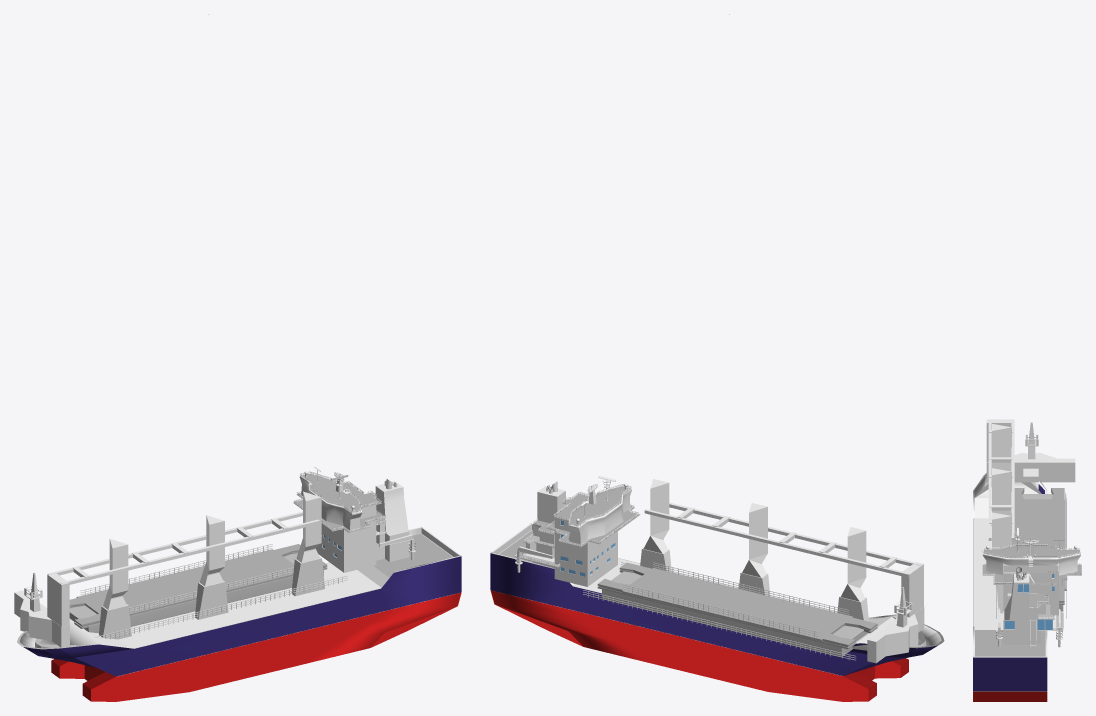
File: gshc.FBX
3 views of the same model, side by side, from view 1: azimuth 30°, elevation 25°; view 2: azimuth 150°, elevation 25°; view 3: azimuth 270°, elevation 25° (orthographic). The views are drawn at different scales.
Parts seen in each view (by area): view 1: chuandi_pCylinder97_chuandi_polySurface362, chuanlou_pCylinder361, chuandi_pCylinder97_chuandi_polySurface178, chuandi_pCylinder97_chuandi_polySurface87, chuandi_pCylinder97_polySurface87, chuandi_pCylinder97_polySurface88, chuandi_pCylinder97_chuandi_polySurface310, chuandi_pCylinder97_chuandi_polySurface432, chuandi_pCylinder97_chuandi_polySurface400; view 2: chuandi_pCylinder97_chuandi_polySurface362, chuanlou_pCylinder361, chuandi_pCylinder97_chuandi_polySurface178, chuandi_pCylinder97_chuandi_polySurface310, chuandi_pCylinder97_chuandi_polySurface87, chuandi_pCylinder97_polySurface88, chuandi_pCylinder97_polySurface87, chuandi_pCylinder97_chuandi_polySurface432, chuandi_pCylinder97_chuandi_polySurface400; view 3: chuandi_pCylinder97_chuandi_polySurface362, chuanlou_pCylinder361, chuandi_pCylinder97_chuandi_polySurface178, chuandi_pCylinder97_chuandi_polySurface432, chuandi_pCylinder97_chuandi_polySurface87, chuandi_pCylinder97_polySurface88, chuandi_pCylinder97_polySurface87, chuandi_pCylinder97_chuandi_polySurface400, chuandi_pCube20, chuandi_pCylinder97_chuandi_polySurface310, chuandi_pCylinder97_chuandi_polySurface86.
Boxes of the visible parts, x1,y1,x2,y2 form: chuandi_pCylinder97_chuandi_polySurface362: [17, 527, 461, 701]; chuanlou_pCylinder361: [293, 467, 409, 572]; chuandi_pCylinder97_chuandi_polySurface178: [69, 544, 327, 628]; chuandi_pCylinder97_chuandi_polySurface87: [291, 491, 325, 596]; chuandi_pCylinder97_polySurface87: [195, 515, 228, 619]; chuandi_pCylinder97_polySurface88: [99, 539, 131, 639]; chuandi_pCylinder97_chuandi_polySurface310: [69, 553, 323, 633]; chuandi_pCylinder97_chuandi_polySurface432: [14, 590, 69, 647]; chuandi_pCylinder97_chuandi_polySurface400: [47, 573, 69, 626]; chuandi_pCylinder97_chuandi_polySurface362: [490, 523, 944, 701]; chuanlou_pCylinder361: [520, 475, 640, 586]; chuandi_pCylinder97_chuandi_polySurface178: [597, 562, 877, 649]; chuandi_pCylinder97_chuandi_polySurface310: [602, 571, 867, 656]; chuandi_pCylinder97_chuandi_polySurface87: [640, 479, 671, 572]; chuandi_pCylinder97_polySurface88: [837, 527, 868, 621]; chuandi_pCylinder97_polySurface87: [739, 503, 770, 596]; chuandi_pCylinder97_chuandi_polySurface432: [867, 607, 924, 663]; chuandi_pCylinder97_chuandi_polySurface400: [901, 562, 923, 617]; chuandi_pCylinder97_chuandi_polySurface362: [973, 473, 1047, 701]; chuanlou_pCylinder361: [982, 527, 1081, 644]; chuandi_pCylinder97_chuandi_polySurface178: [1012, 488, 1066, 604]; chuandi_pCylinder97_chuandi_polySurface432: [986, 452, 1075, 482]; chuandi_pCylinder97_chuandi_polySurface87: [992, 512, 1011, 613]; chuandi_pCylinder97_polySurface88: [992, 424, 1011, 471]; chuandi_pCylinder97_polySurface87: [992, 468, 1011, 515]; chuandi_pCylinder97_chuandi_polySurface400: [986, 419, 1011, 462]; chuandi_pCube20: [1028, 422, 1035, 459]; chuandi_pCylinder97_chuandi_polySurface310: [1022, 494, 1063, 612]; chuandi_pCylinder97_chuandi_polySurface86: [988, 486, 991, 540].
Bounding box in the file's own units: 61.3 × 89.38 × 14.56.
